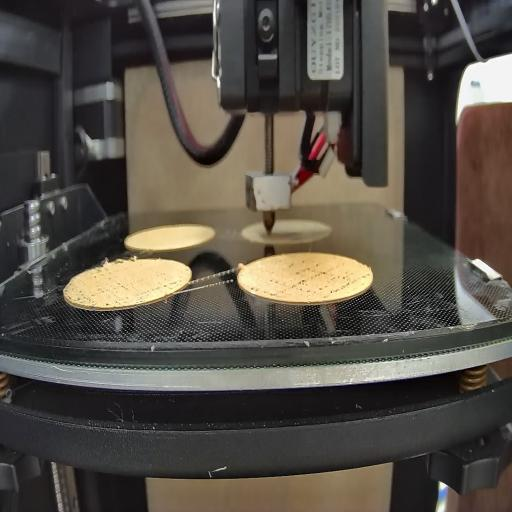under_extrusion: (290, 260, 357, 298), (75, 273, 132, 305), (251, 278, 282, 299), (146, 280, 183, 292)
